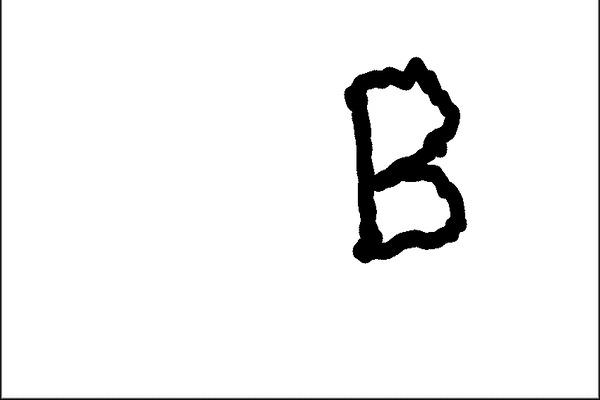B: (333, 54, 475, 266)
